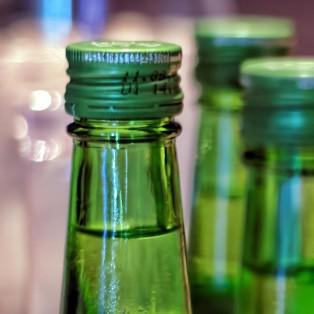soju: (55, 39, 198, 313)
